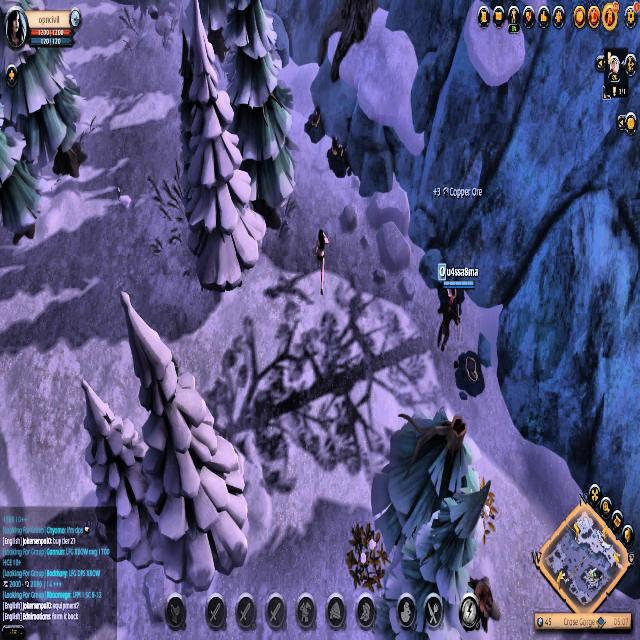copper_ore: (328, 130, 352, 182), (306, 101, 326, 144)
cotton: (348, 536, 392, 596)
